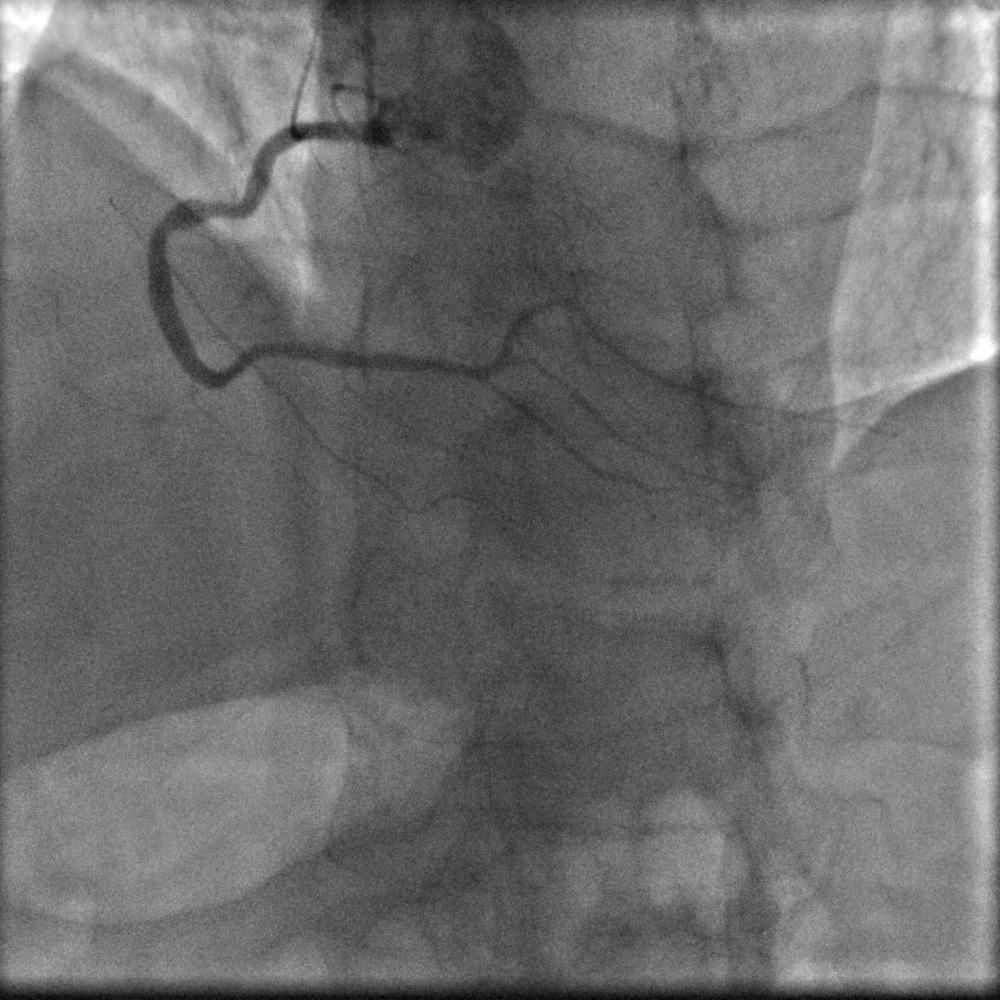Stenosis: (146, 212, 173, 246)
